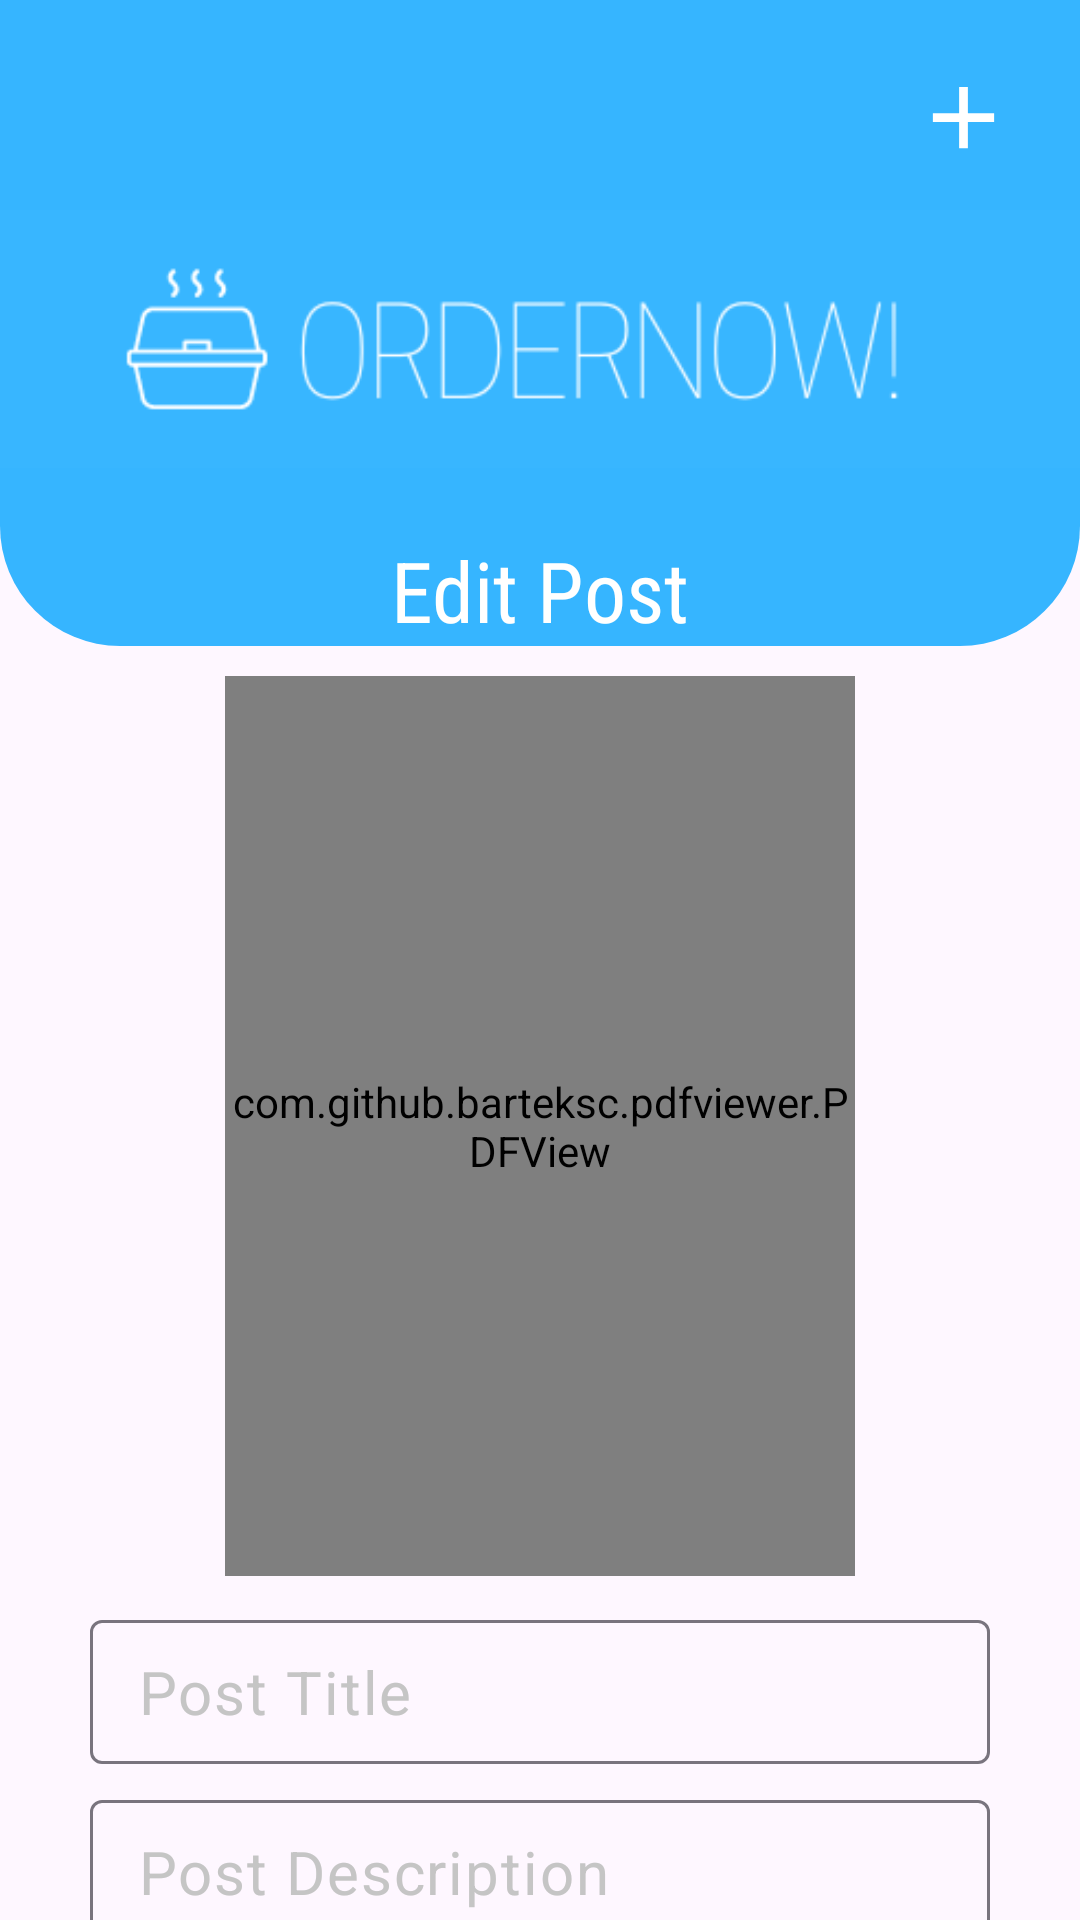

Screen size 1080 × 1920. Icon name, then its box in pixels as (x1, y1, x2, y2):
addcontent: (932, 87, 995, 149)
